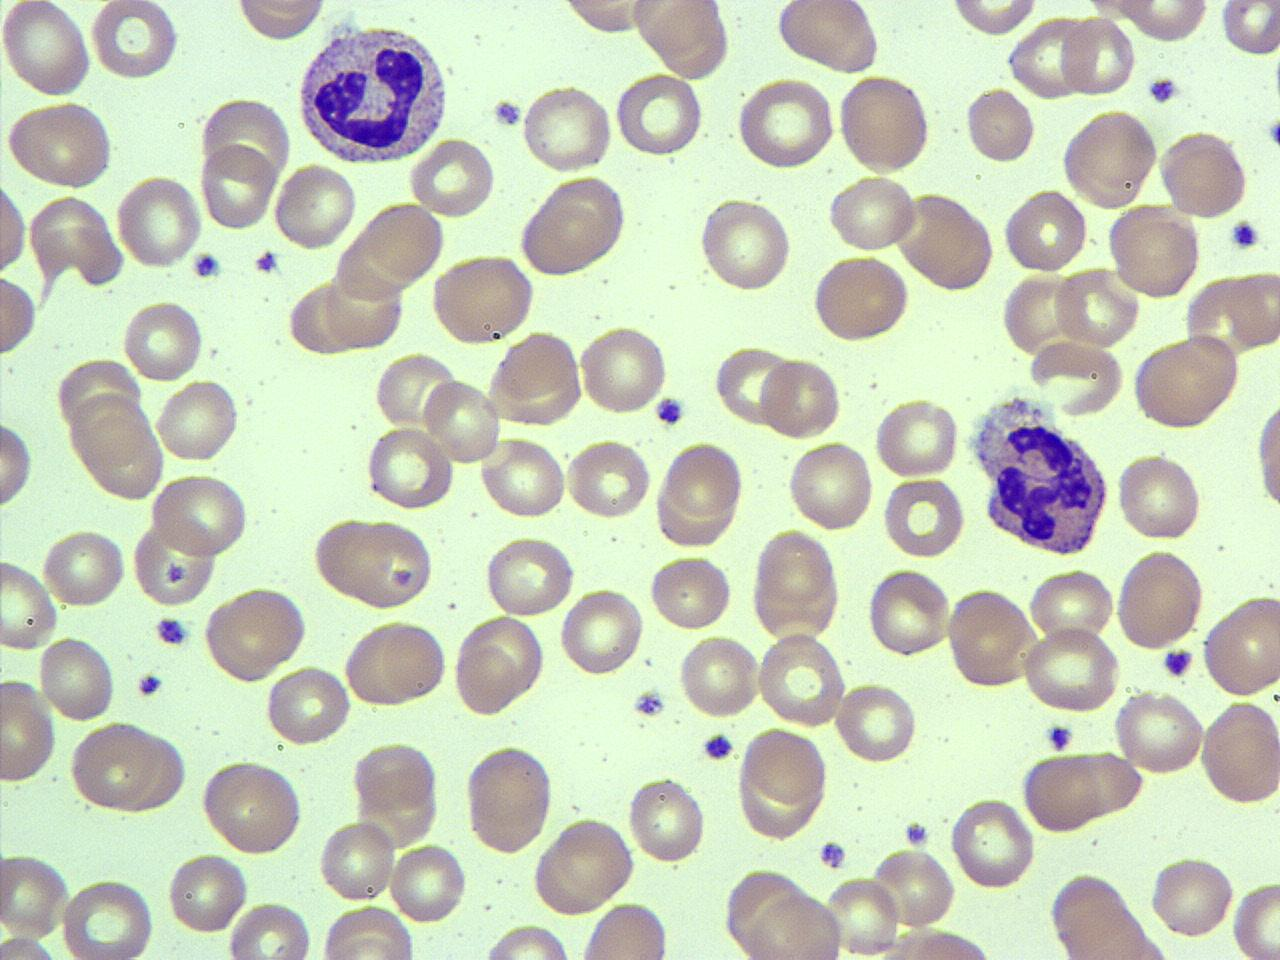Platelets: (152, 612, 192, 648), (652, 394, 687, 430), (1043, 720, 1077, 756), (700, 730, 736, 764), (1145, 74, 1181, 107), (1229, 217, 1261, 254), (631, 686, 667, 718), (1160, 646, 1196, 678), (491, 96, 524, 130), (816, 838, 848, 871), (191, 251, 223, 280), (135, 670, 165, 698), (902, 820, 930, 848), (254, 250, 280, 274), (1269, 52, 1280, 105), (1262, 117, 1280, 149)
RBC: (310, 514, 438, 611), (67, 719, 192, 817), (514, 173, 630, 276), (1131, 330, 1243, 433), (1016, 748, 1143, 836), (1058, 106, 1162, 211), (530, 814, 637, 916), (4, 97, 118, 192), (462, 741, 556, 856), (197, 757, 306, 856), (204, 583, 309, 685), (750, 527, 842, 643), (896, 190, 998, 293), (428, 251, 538, 345), (452, 612, 548, 718), (1113, 544, 1207, 652), (695, 192, 794, 294), (341, 616, 450, 708), (486, 328, 586, 428), (836, 72, 932, 176), (1105, 201, 1203, 301), (736, 75, 836, 172), (809, 253, 914, 344), (0, 0, 95, 100), (945, 584, 1033, 690), (197, 92, 292, 190), (147, 470, 250, 560), (113, 170, 204, 271), (1198, 696, 1280, 808), (79, 398, 166, 503), (755, 629, 847, 728), (784, 437, 876, 536), (576, 323, 670, 418), (1020, 626, 1120, 715), (1200, 589, 1280, 700), (520, 84, 616, 176), (948, 794, 1037, 892), (558, 584, 648, 679), (864, 563, 952, 660), (28, 194, 119, 286), (1157, 128, 1249, 219), (613, 69, 705, 160), (151, 374, 241, 467), (1115, 449, 1205, 542), (59, 875, 158, 959), (1000, 184, 1090, 276), (272, 160, 360, 253), (773, 0, 883, 74), (1024, 340, 1128, 418), (741, 726, 831, 816), (1112, 688, 1204, 776), (482, 534, 576, 618), (625, 772, 708, 867), (366, 424, 454, 513), (872, 393, 961, 481), (564, 436, 654, 523), (1148, 852, 1236, 940), (264, 662, 352, 750), (478, 434, 567, 521), (121, 295, 206, 386), (89, 0, 182, 83), (825, 172, 918, 255), (881, 474, 968, 562), (408, 135, 498, 220), (677, 633, 762, 722), (1027, 566, 1117, 650), (758, 354, 844, 441), (834, 679, 920, 766), (1052, 264, 1140, 349), (422, 376, 503, 468), (37, 632, 118, 724), (360, 198, 446, 284), (744, 886, 843, 960), (40, 526, 126, 610), (372, 349, 460, 431), (660, 440, 748, 522), (870, 846, 958, 928), (387, 840, 469, 928), (1005, 16, 1091, 99), (131, 524, 218, 606), (316, 818, 398, 905), (646, 551, 734, 632), (712, 344, 795, 429), (197, 142, 277, 230), (167, 851, 249, 935), (824, 870, 902, 958), (0, 848, 73, 942), (632, 0, 730, 70), (1000, 272, 1078, 355), (1058, 14, 1136, 97), (324, 272, 404, 351), (0, 677, 58, 785), (964, 84, 1038, 166), (574, 900, 672, 960), (0, 555, 59, 652), (317, 902, 416, 958), (224, 900, 312, 960), (866, 926, 998, 960), (1226, 268, 1280, 349), (555, 0, 669, 38), (1229, 874, 1279, 960), (231, 0, 331, 43), (1115, 0, 1211, 44), (479, 923, 577, 960), (946, 0, 1043, 37), (1251, 391, 1279, 517), (1220, 0, 1280, 57), (0, 272, 39, 358), (0, 418, 36, 511), (0, 174, 28, 281), (0, 934, 64, 960)
WBC: (293, 10, 453, 168), (964, 394, 1114, 560)
